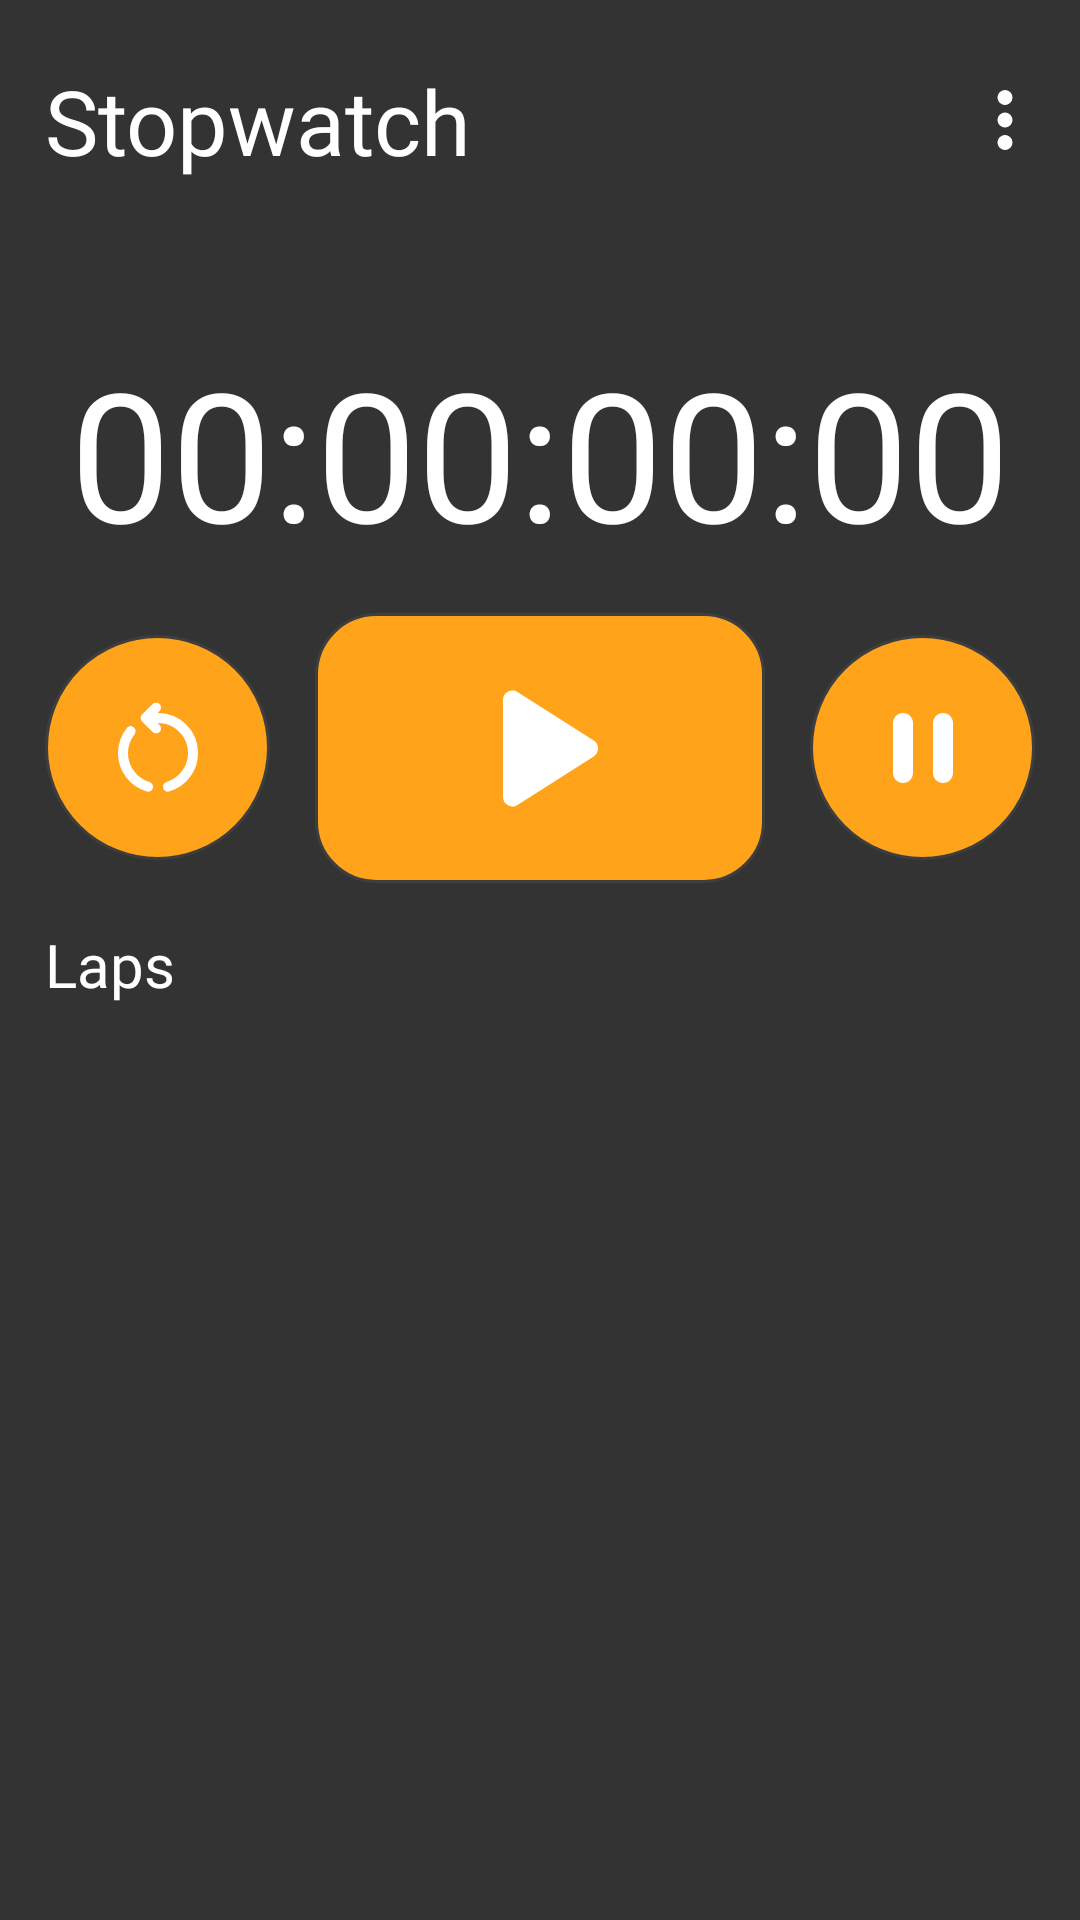

Icon bounding boxes for this 1080w x 1920h phone screenshot, format (x1, y1, x2, y2):
pause button: (813, 638, 1032, 857)
reset button: (48, 638, 267, 857)
